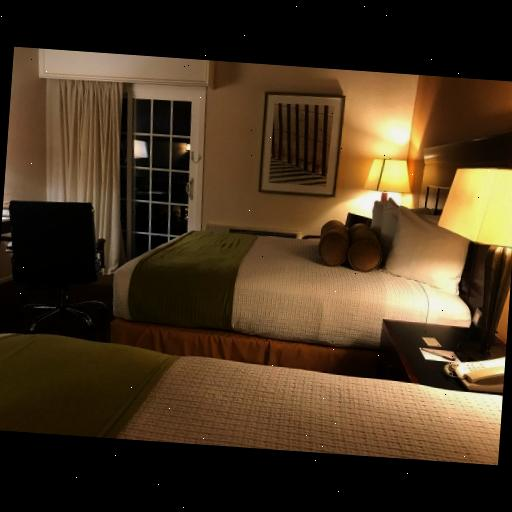chair: (0, 189, 112, 338)
clean_bed: (106, 133, 512, 377), (0, 330, 503, 465)
lamp: (428, 160, 512, 354)
organised_pillow: (310, 202, 470, 290)
